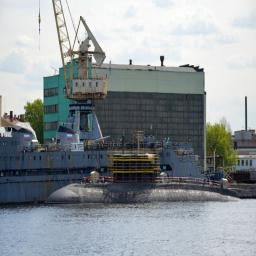submarine: (40, 180, 245, 202)
